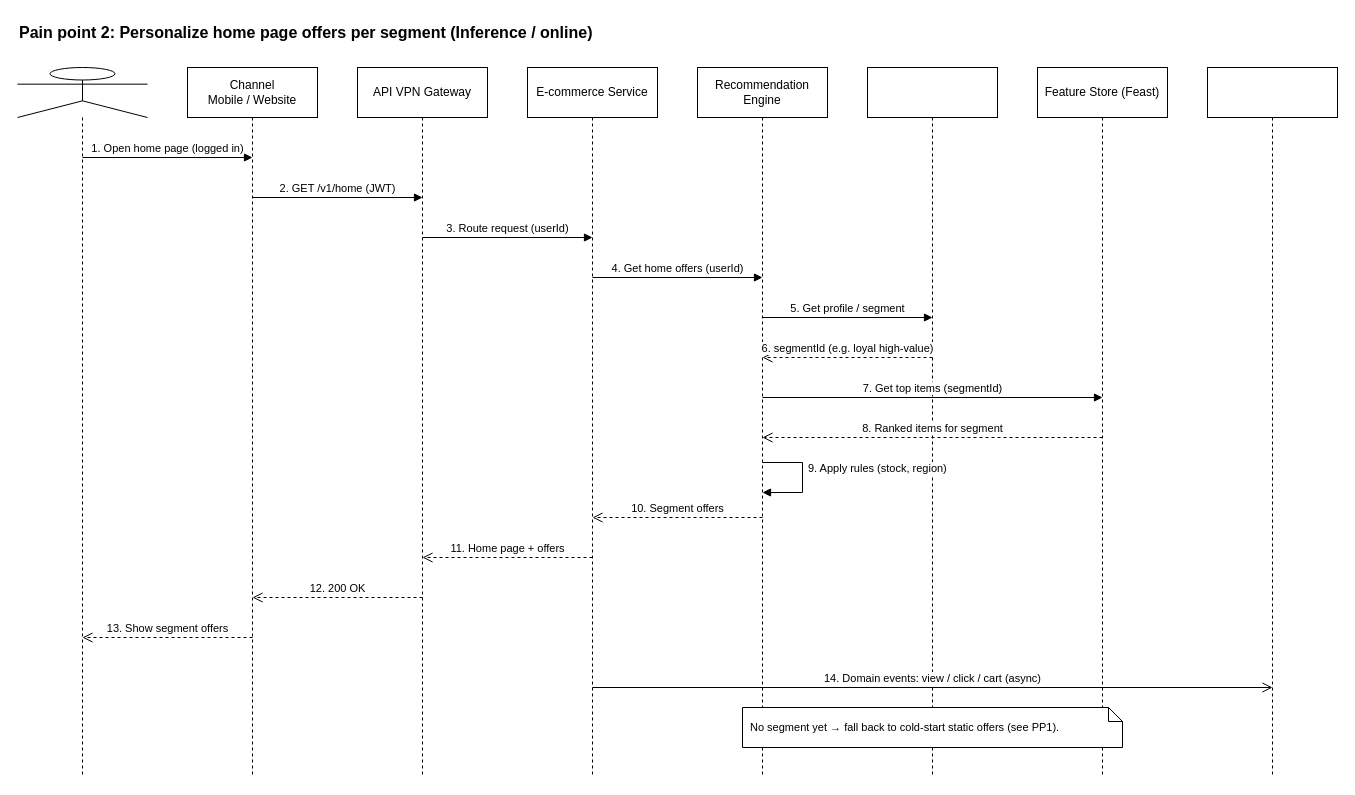
This 1355x795 diagram has some shape labels left out. The shapes that lost their labels are listed below. From the top down, each one's box as (x1, y1, x2, y2) in pixels, then its label:
(16, 66, 148, 778): Online user
(866, 66, 998, 778): Customer interactions and profiles (CDP)
(1206, 66, 1338, 778): Kafka
